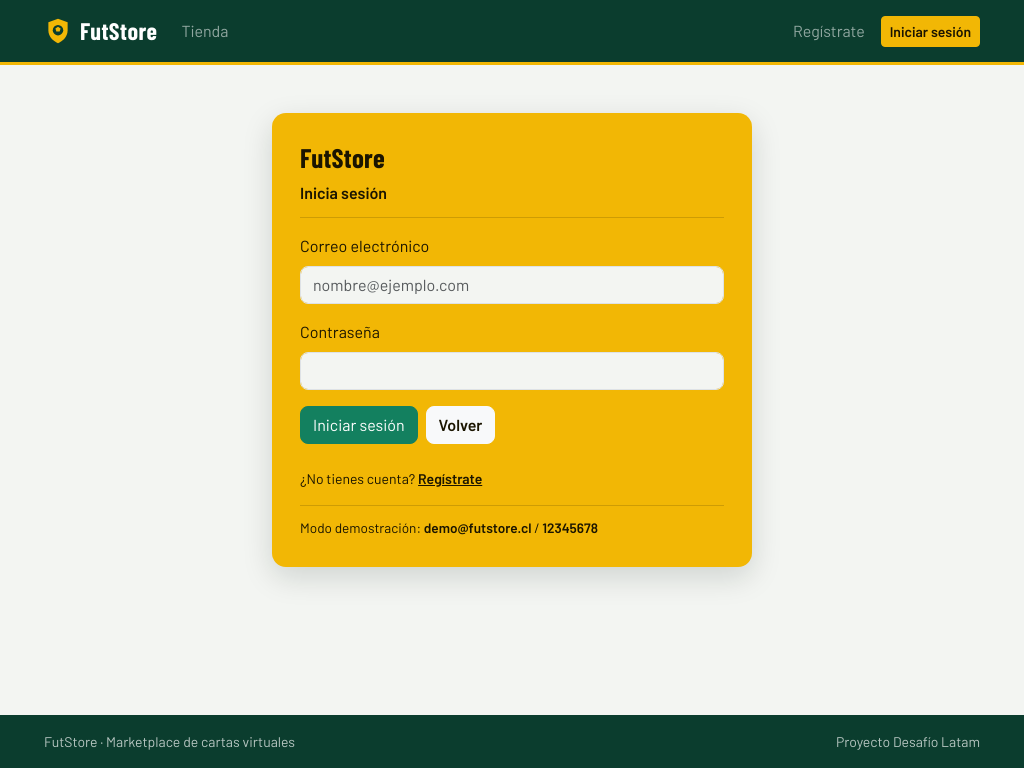
Test: Rutas privadas y sesión (Context) › login con datos incorrectos muestra el error de la API
In the field labelled "Correo electrónico": (512, 285) [300,266,724,304], type "demo@futstore.cl"
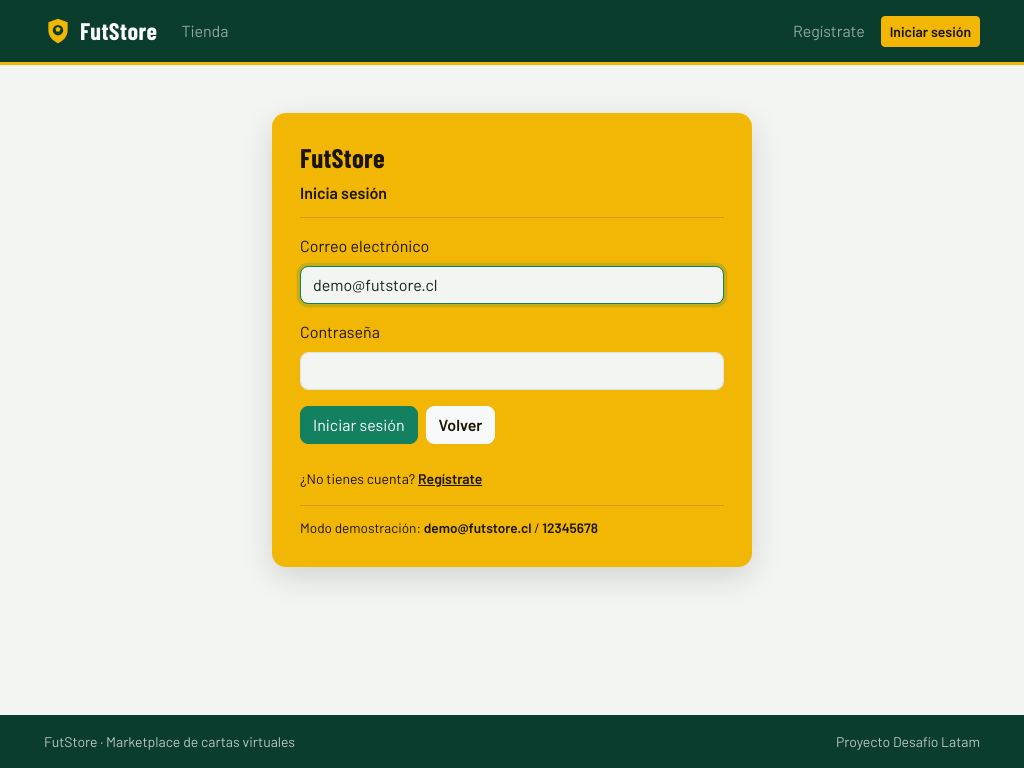
In the password field labelled "Contraseña": (512, 371) [300,352,724,390], type "incorrecta"
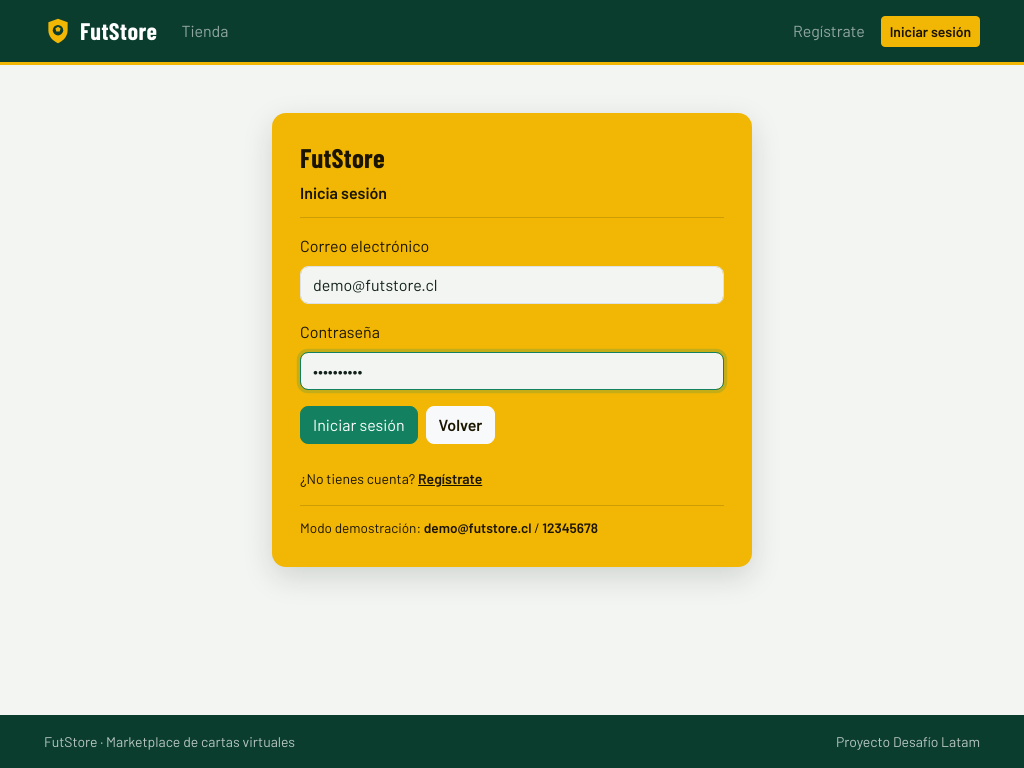
Click the button "Iniciar sesión" below "Contraseña": click(359, 425) [300,406,418,444]
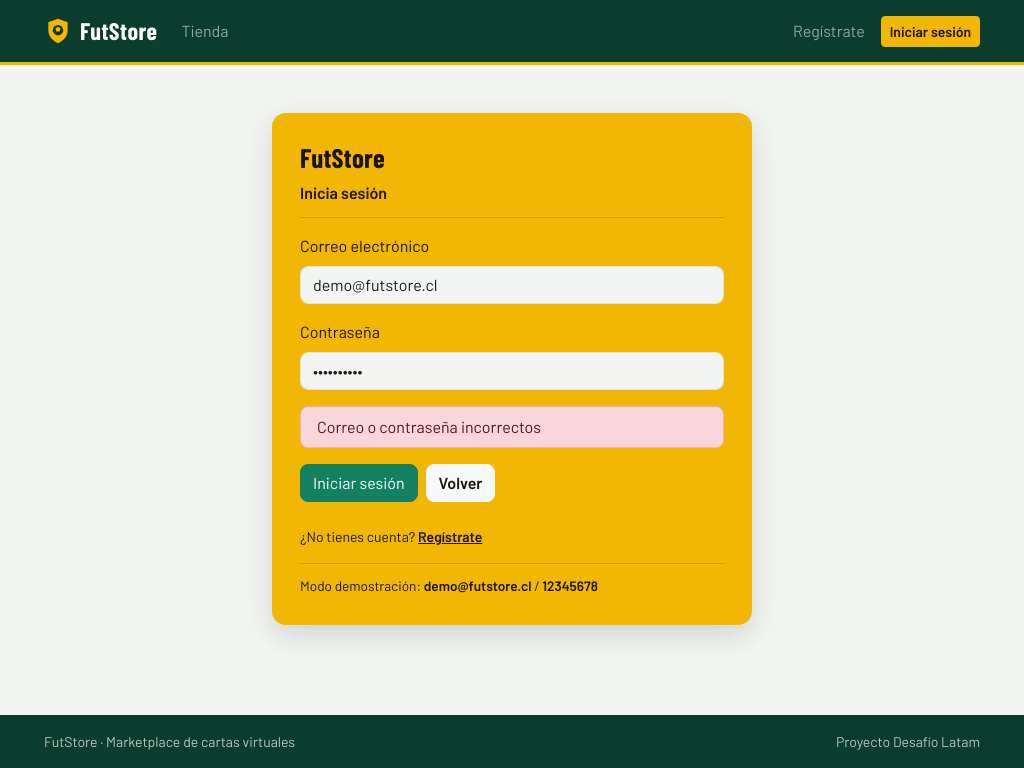
Now the text "Correo o contraseña incorrectos" is shown, box [300,406,724,448]
